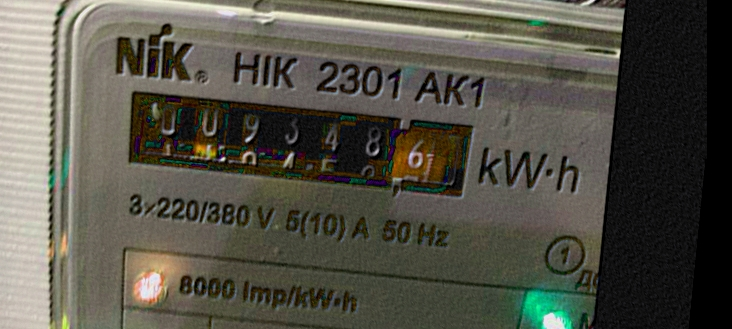0: (197, 103, 221, 141), (156, 101, 179, 138)
3: (279, 112, 304, 146)
4: (318, 116, 343, 155)
6: (404, 135, 429, 171)
8: (361, 122, 384, 158)
9: (240, 108, 261, 144)
screen: (100, 74, 493, 213)
